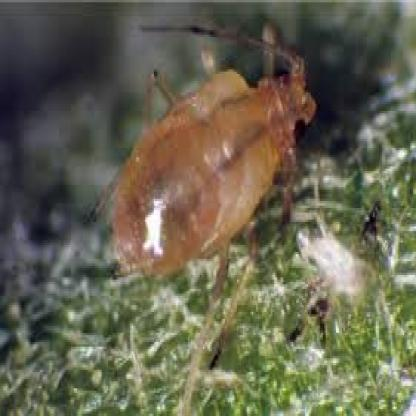aphid: (103, 10, 320, 296)
